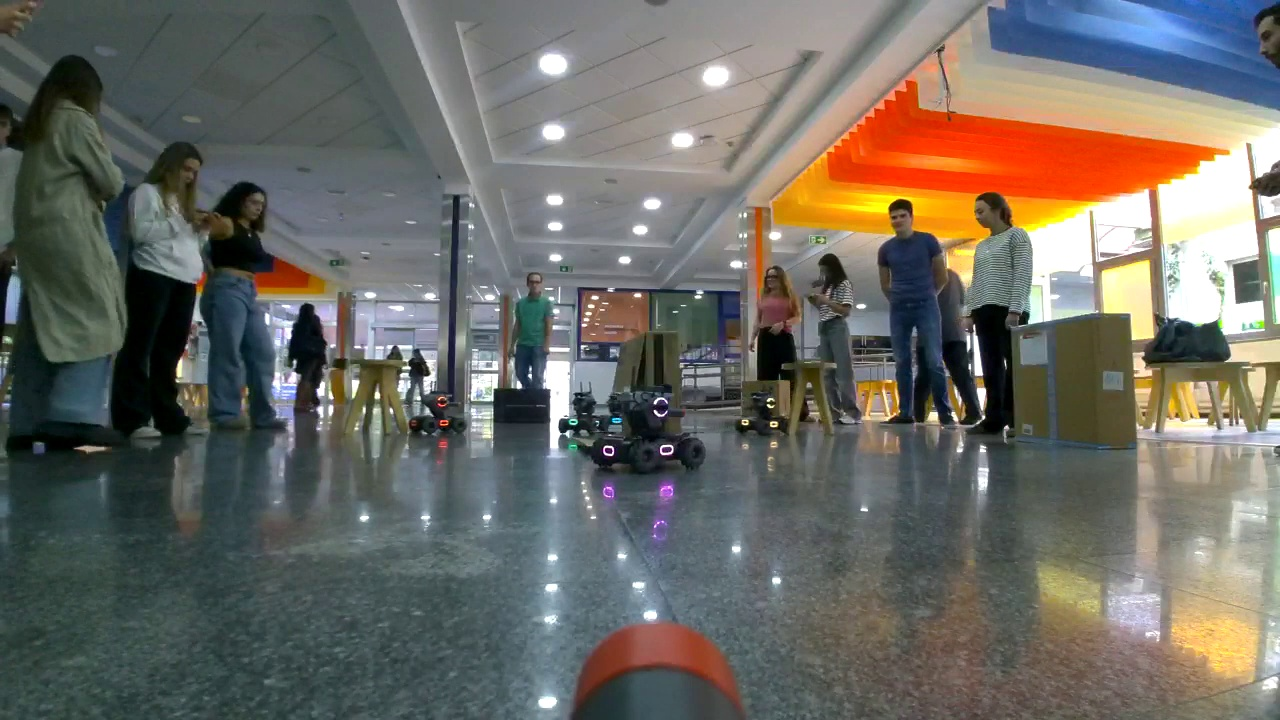robot: (596, 385, 702, 465), (410, 391, 465, 432), (557, 392, 611, 432), (736, 392, 789, 431)
